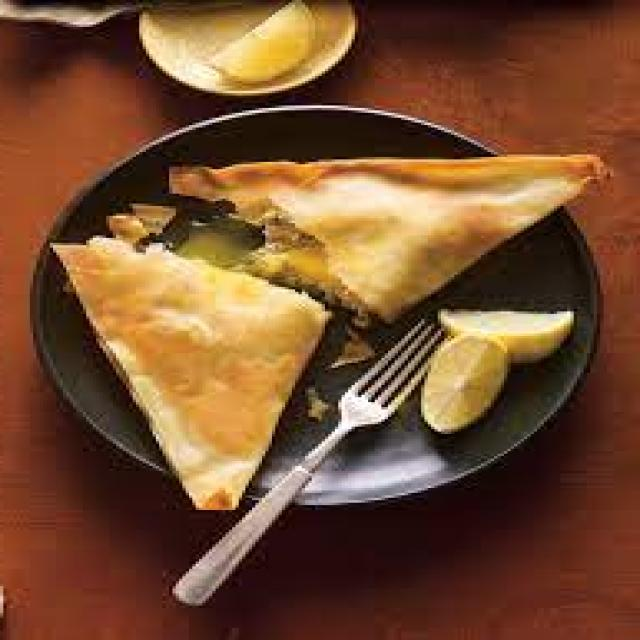brik: (19, 223, 318, 512), (134, 131, 640, 273)
